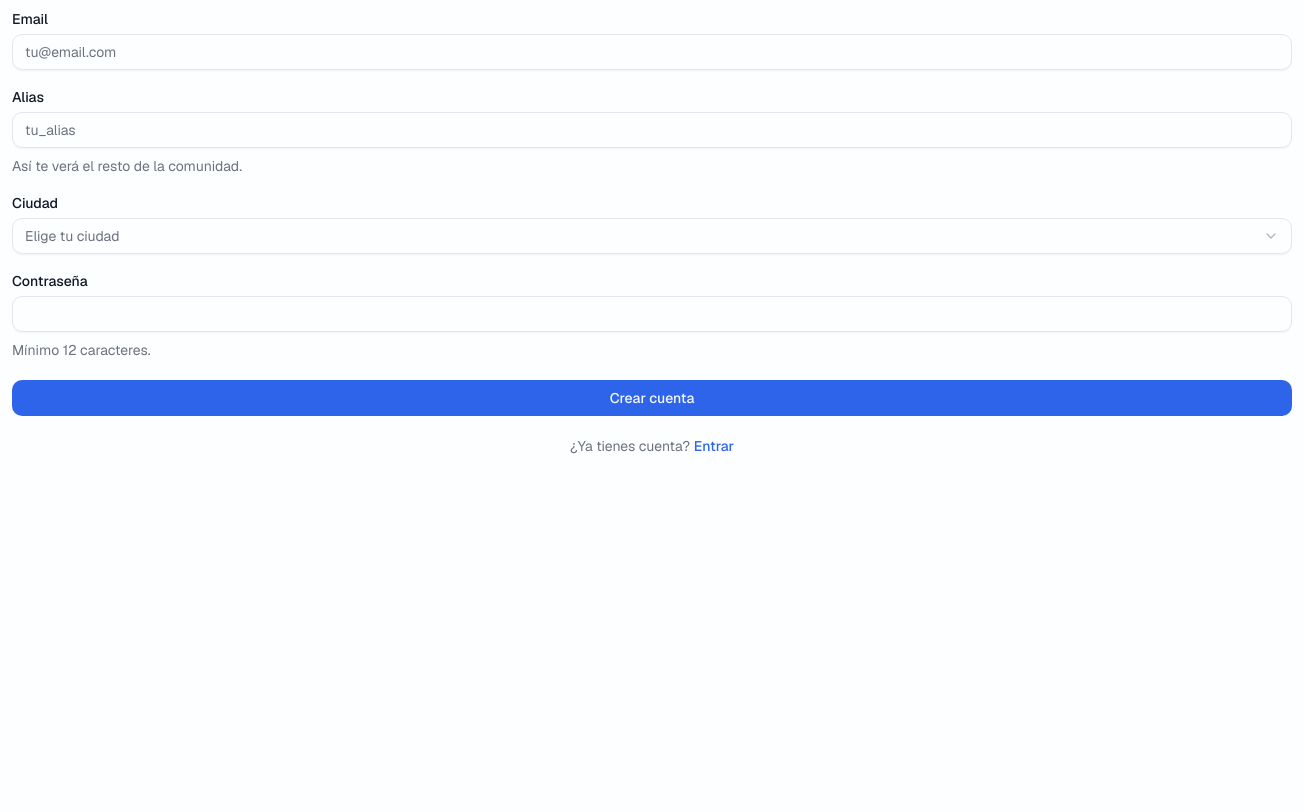
SignUpForm › Email ya registrado muestra el error generico de credenciales
Type "nueva@loop.test" into the field labelled "Email" at (652, 52), box [12, 34, 1292, 70]
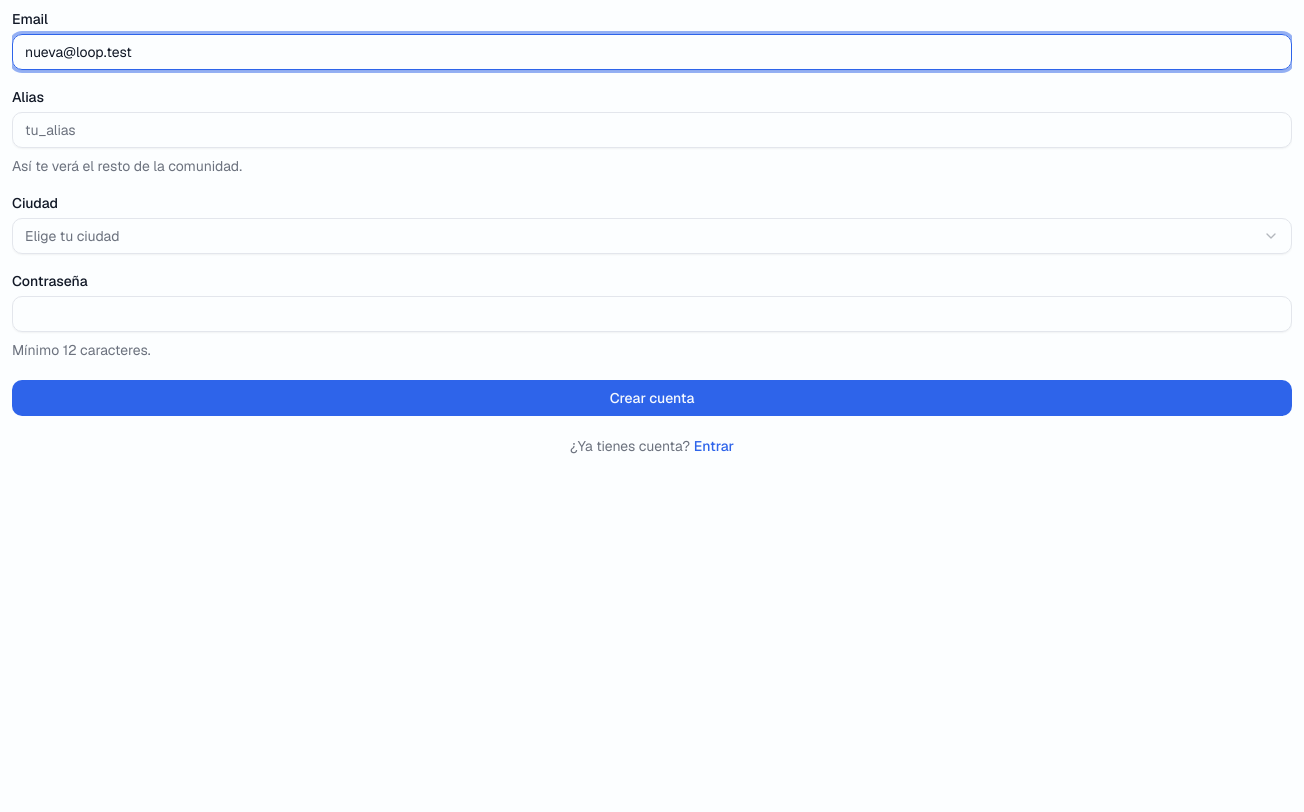
Type "nueva_vecina" into the field labelled "Alias" at (652, 130), box [12, 112, 1292, 148]
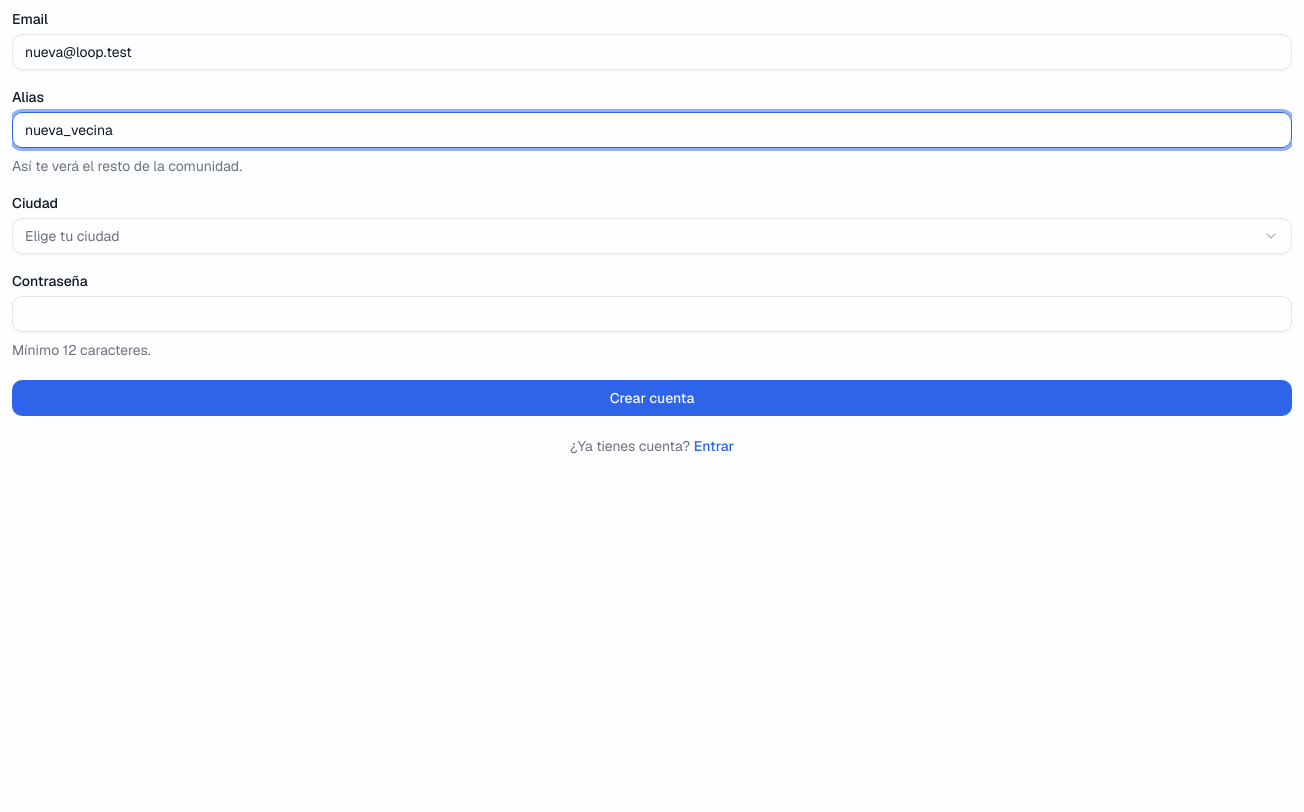
Type "loopmarket123" into the password field labelled "Contraseña" at (652, 314), box [12, 296, 1292, 332]
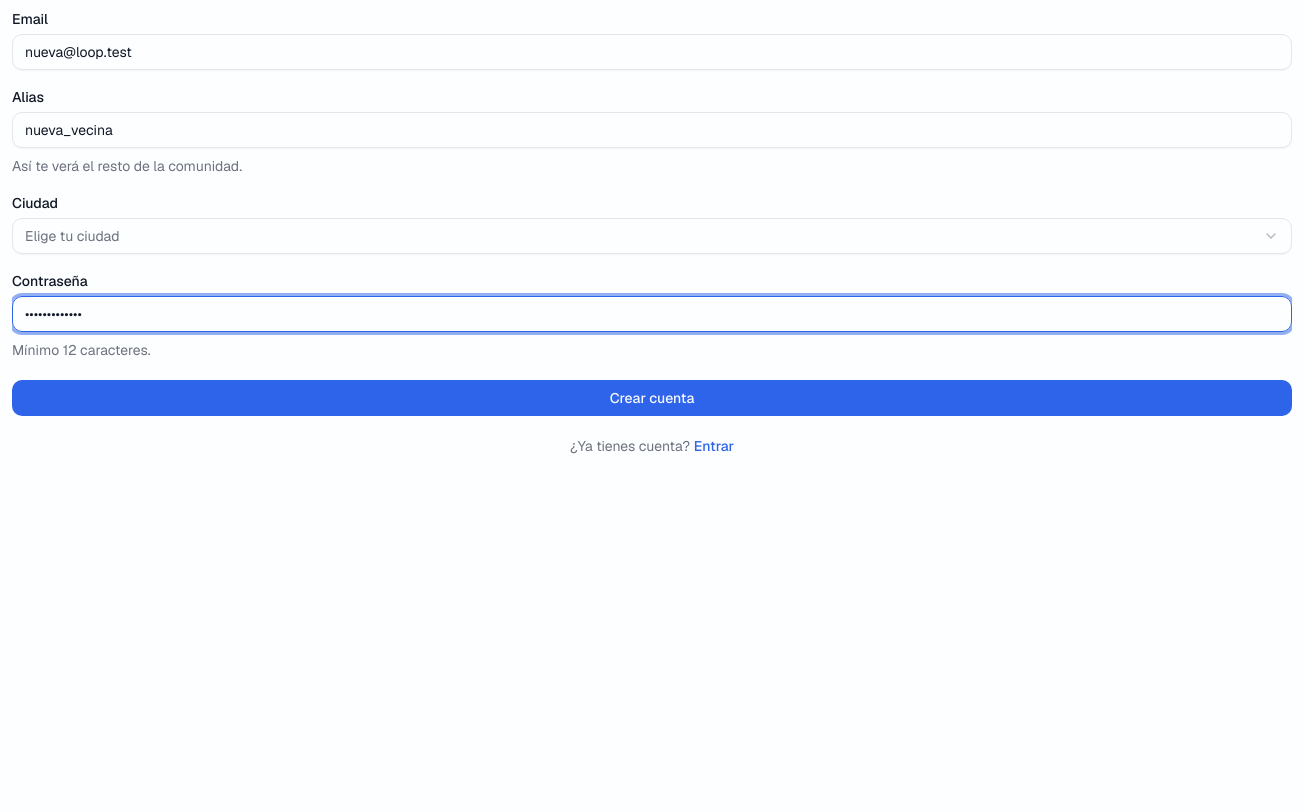
Click the dropdown labelled "ciudad" at (72, 236), box [12, 218, 1292, 254]
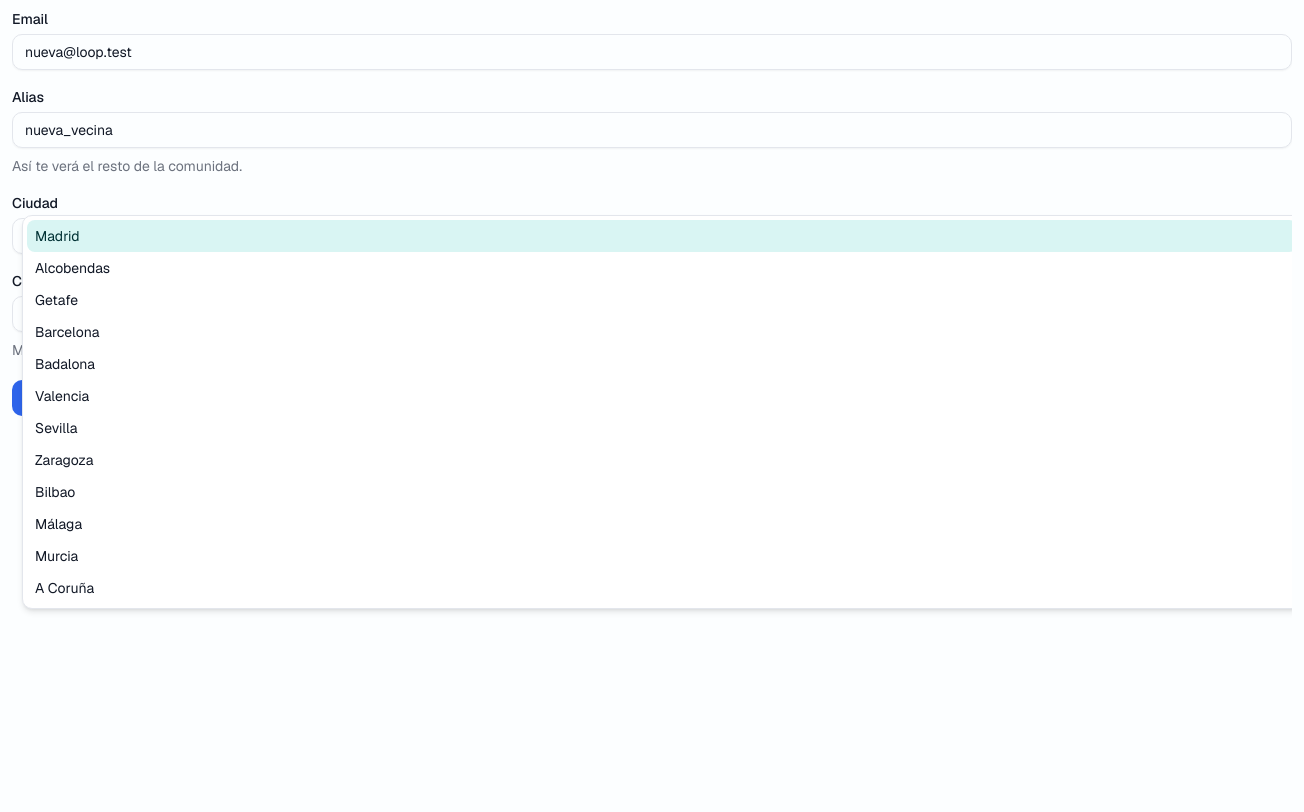
Click the option "Madrid" at (57, 236), box [27, 220, 1292, 252]
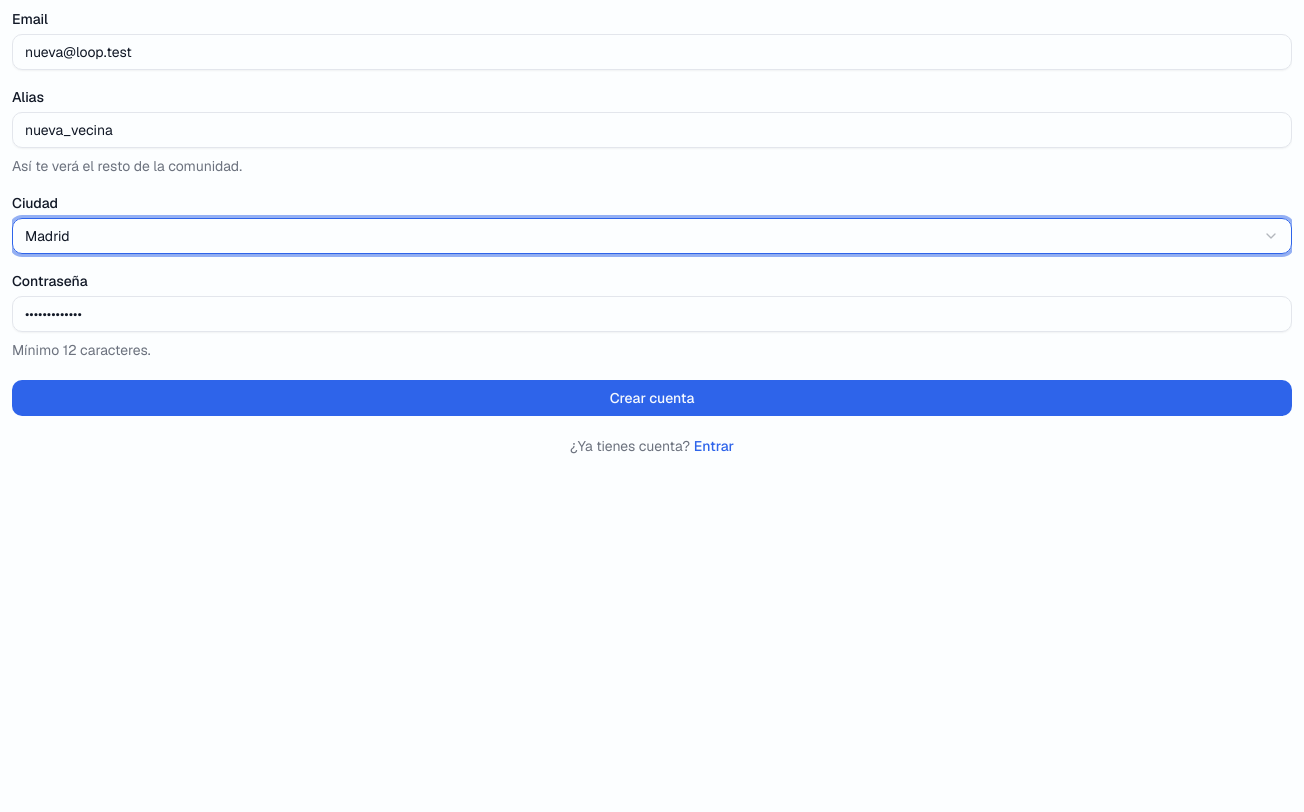
Click the button "Crear cuenta" at (652, 398), box [12, 380, 1292, 416]
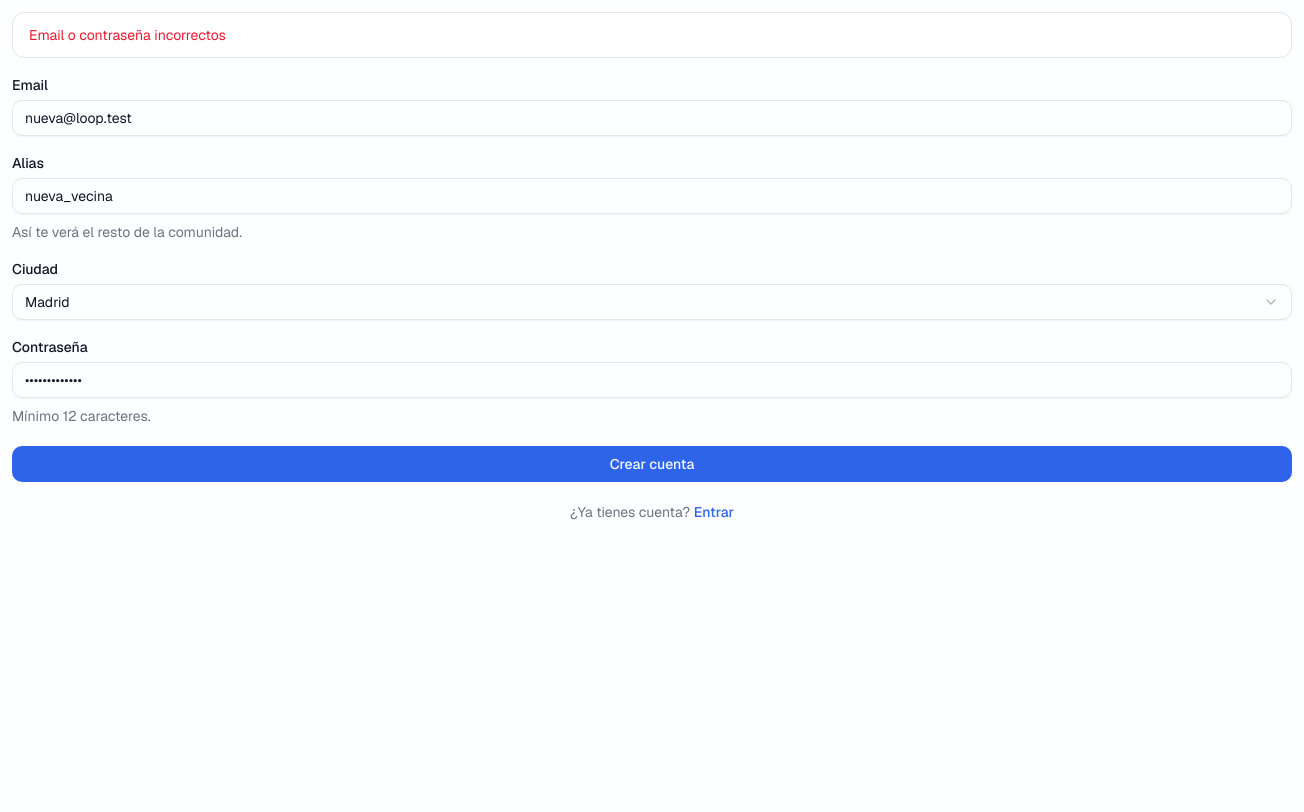
Check: the message reads "Email o contraseña incorrectos", box [29, 26, 226, 44]
